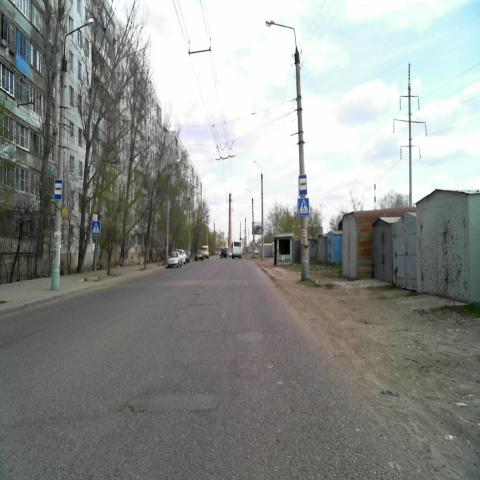5_16: (299, 175, 307, 194)
